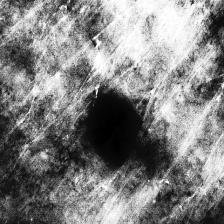Benign Marking or Mole: (90, 97, 132, 163)
